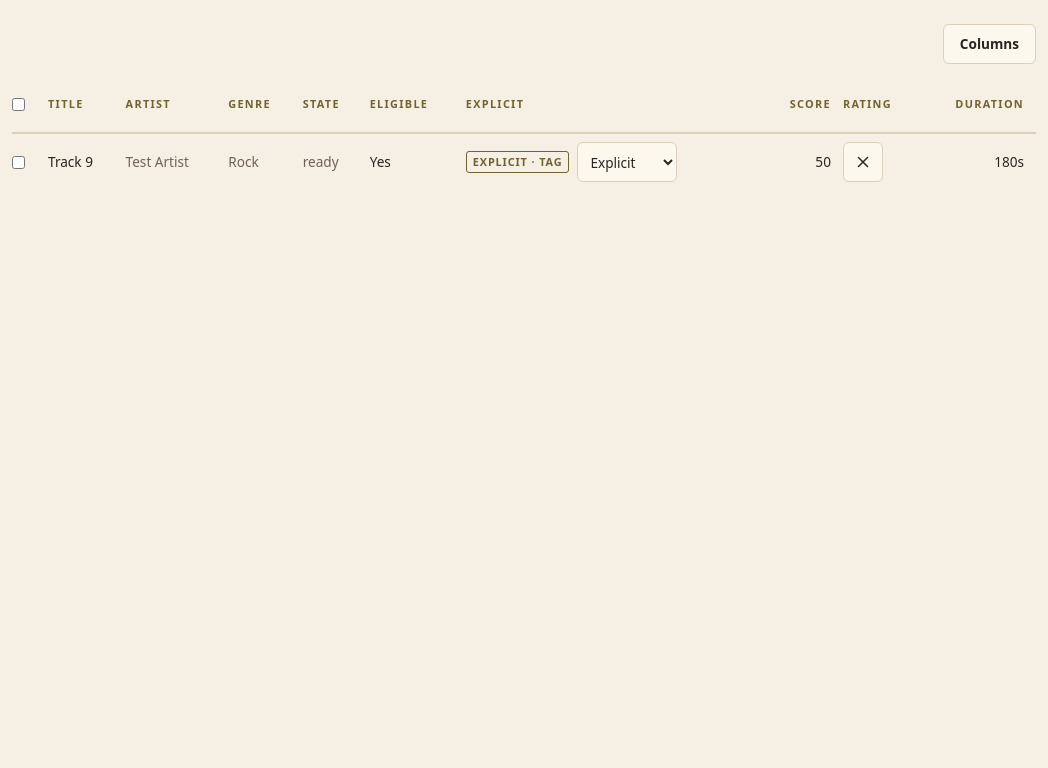
Feature: Explicit classification in the Catalog page › Scenario: a failed override surfaces a toast (sad path) › toasts the classified failure and leaves the prior state on screen (F31.3)
The image size is (1048, 768).
Select "Clean" in the dropdown named "Explicit override for Track 9" at (628, 162), box x1=578 y1=142 x2=678 y2=182
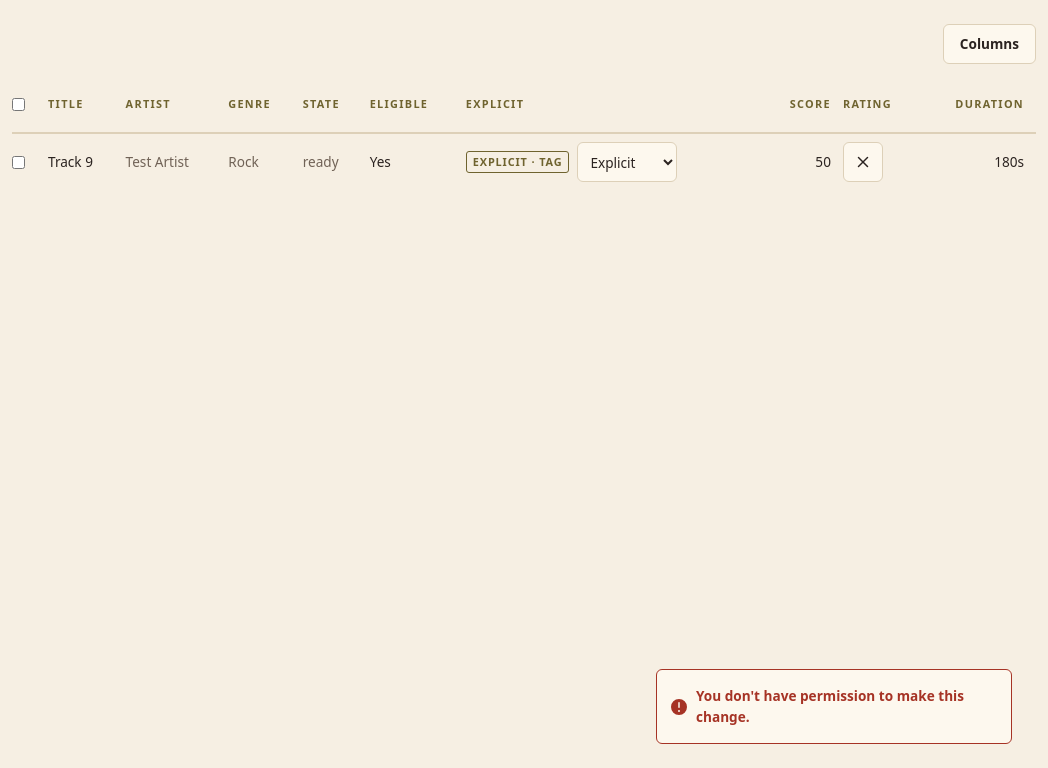
expect the text "Explicit · tag" is shown: met, box x1=466 y1=151 x2=569 y2=173
expect the text "You don't have permission to make this change." is shown: met, box x1=696 y1=686 x2=995 y2=727
